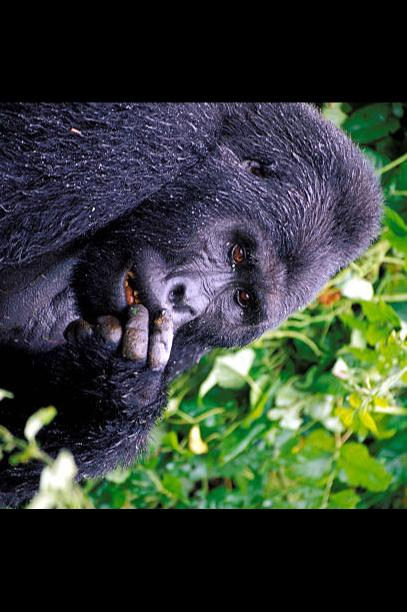goriile_montagne: (0, 102, 389, 504)
